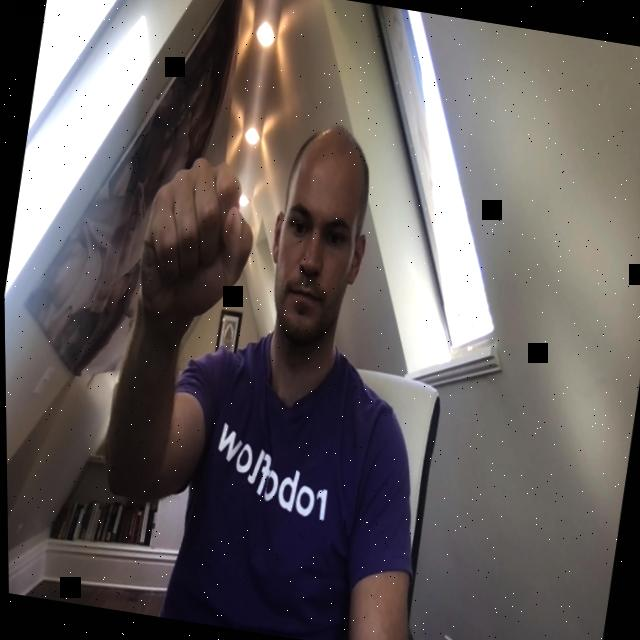Rock: (125, 146, 270, 328)
